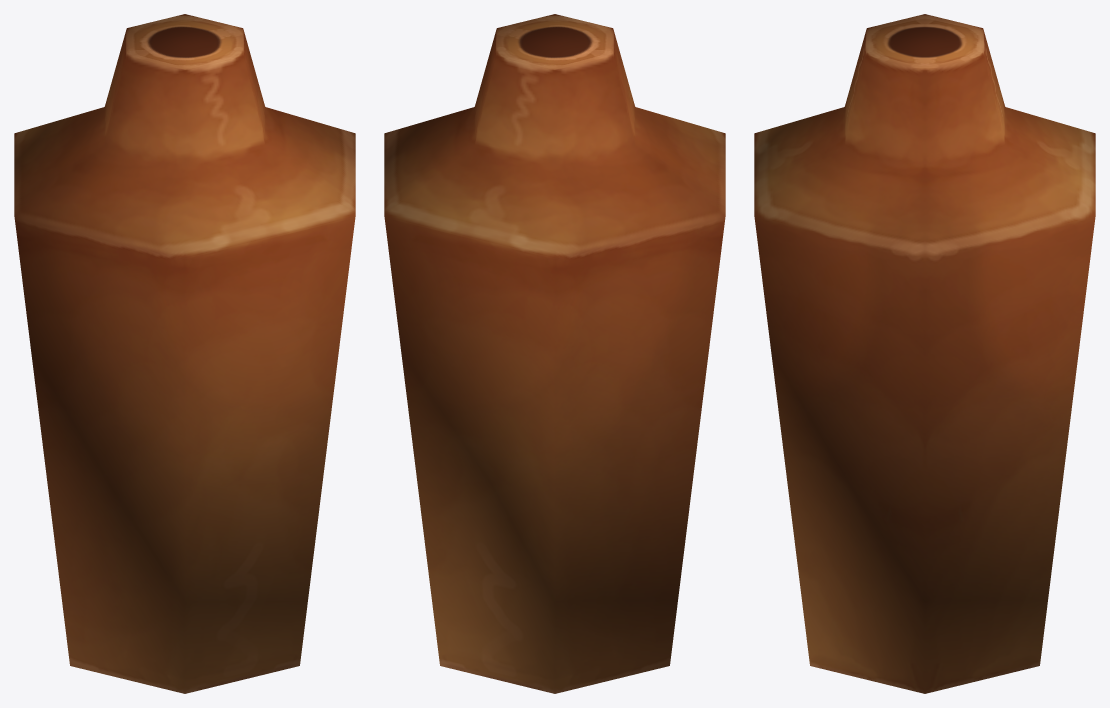
The model's file is td_e_pot_02.fbx.
3 renders of one model, left to right at view 1: azimuth 30°, elevation 25°; view 2: azimuth 150°, elevation 25°; view 3: azimuth 270°, elevation 25°, orthographic.
Parts seen in each view (by area): view 1: td_e_pot_02; view 2: td_e_pot_02; view 3: td_e_pot_02.
Boxes of the visible parts, box(x1,y1,x2,y2) form: td_e_pot_02: box(14, 14, 355, 693); td_e_pot_02: box(384, 14, 725, 693); td_e_pot_02: box(754, 14, 1095, 693).
Size of what is drawn, in the model's own units: 0.544 by 0.9076 by 0.4711.
